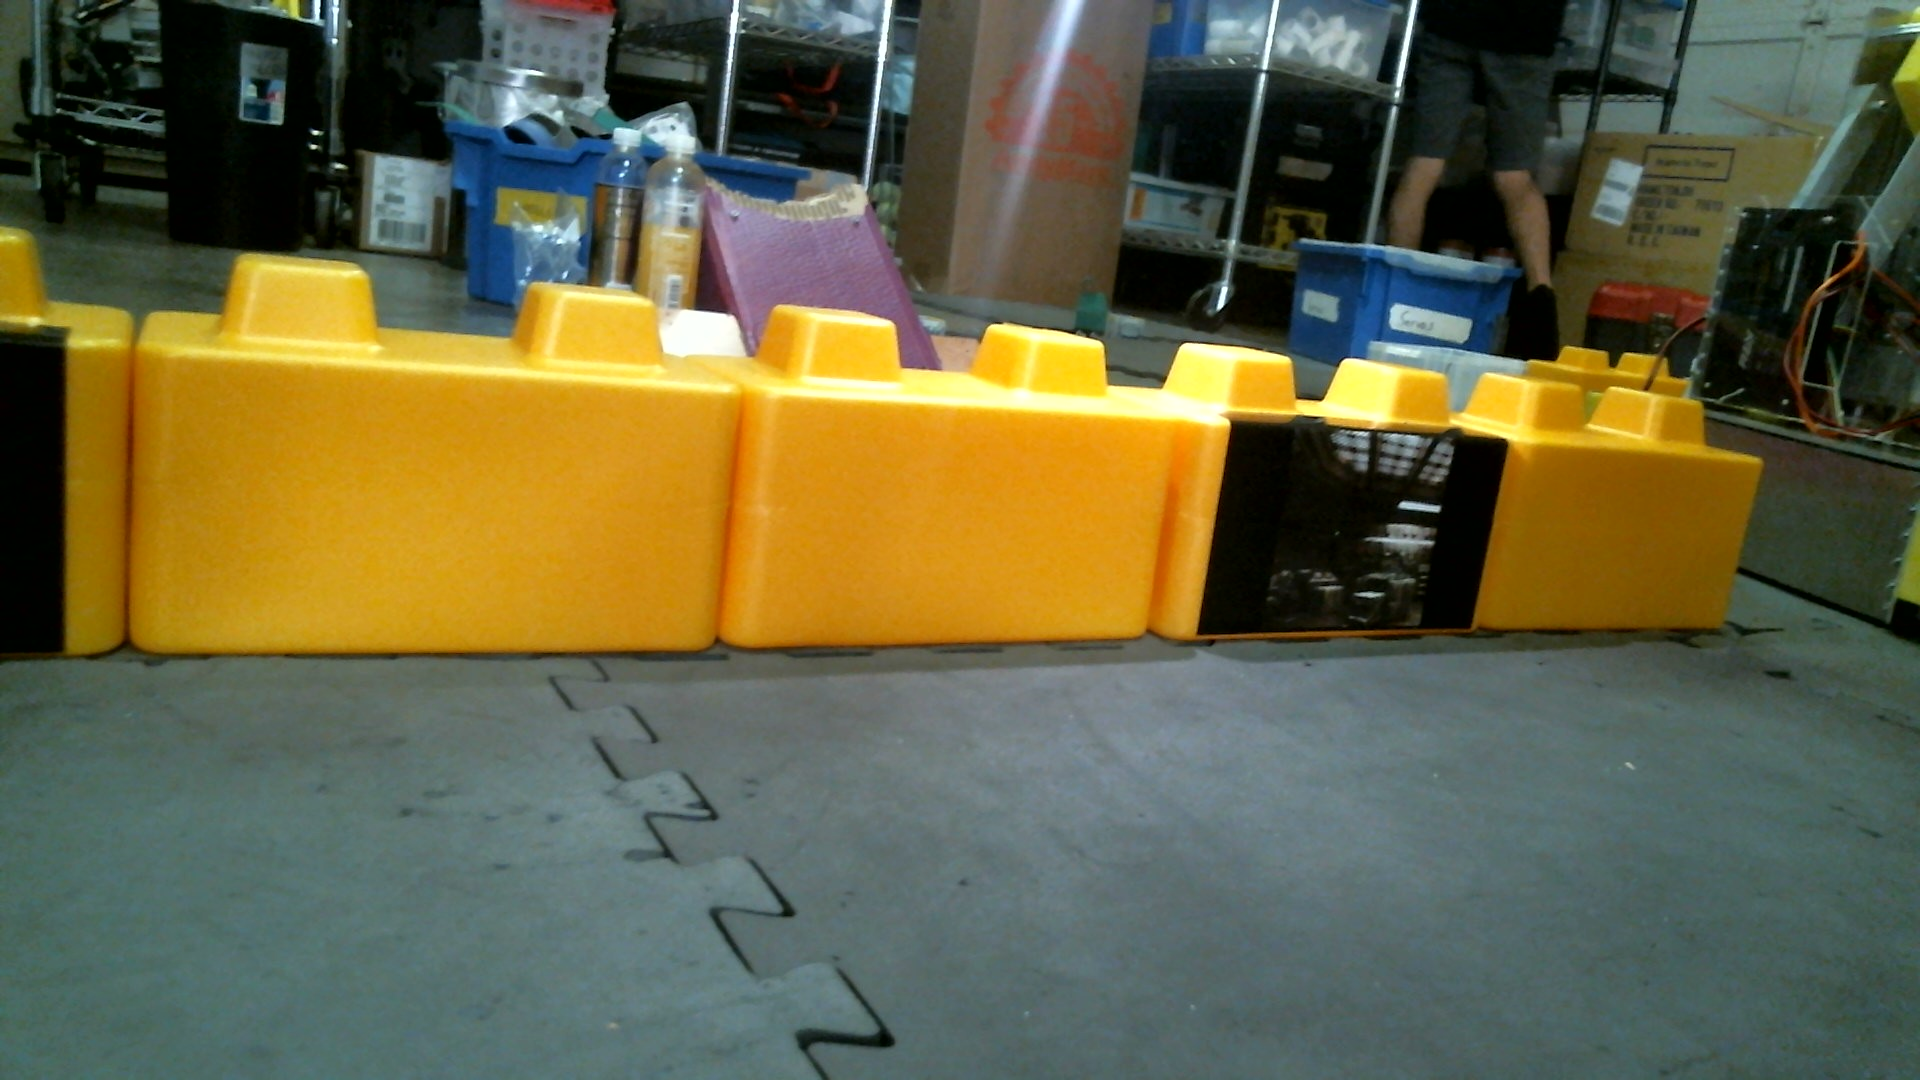skystone: (1159, 342, 1487, 641)
stone: (132, 244, 723, 663), (713, 303, 1160, 650), (1460, 369, 1750, 636)
